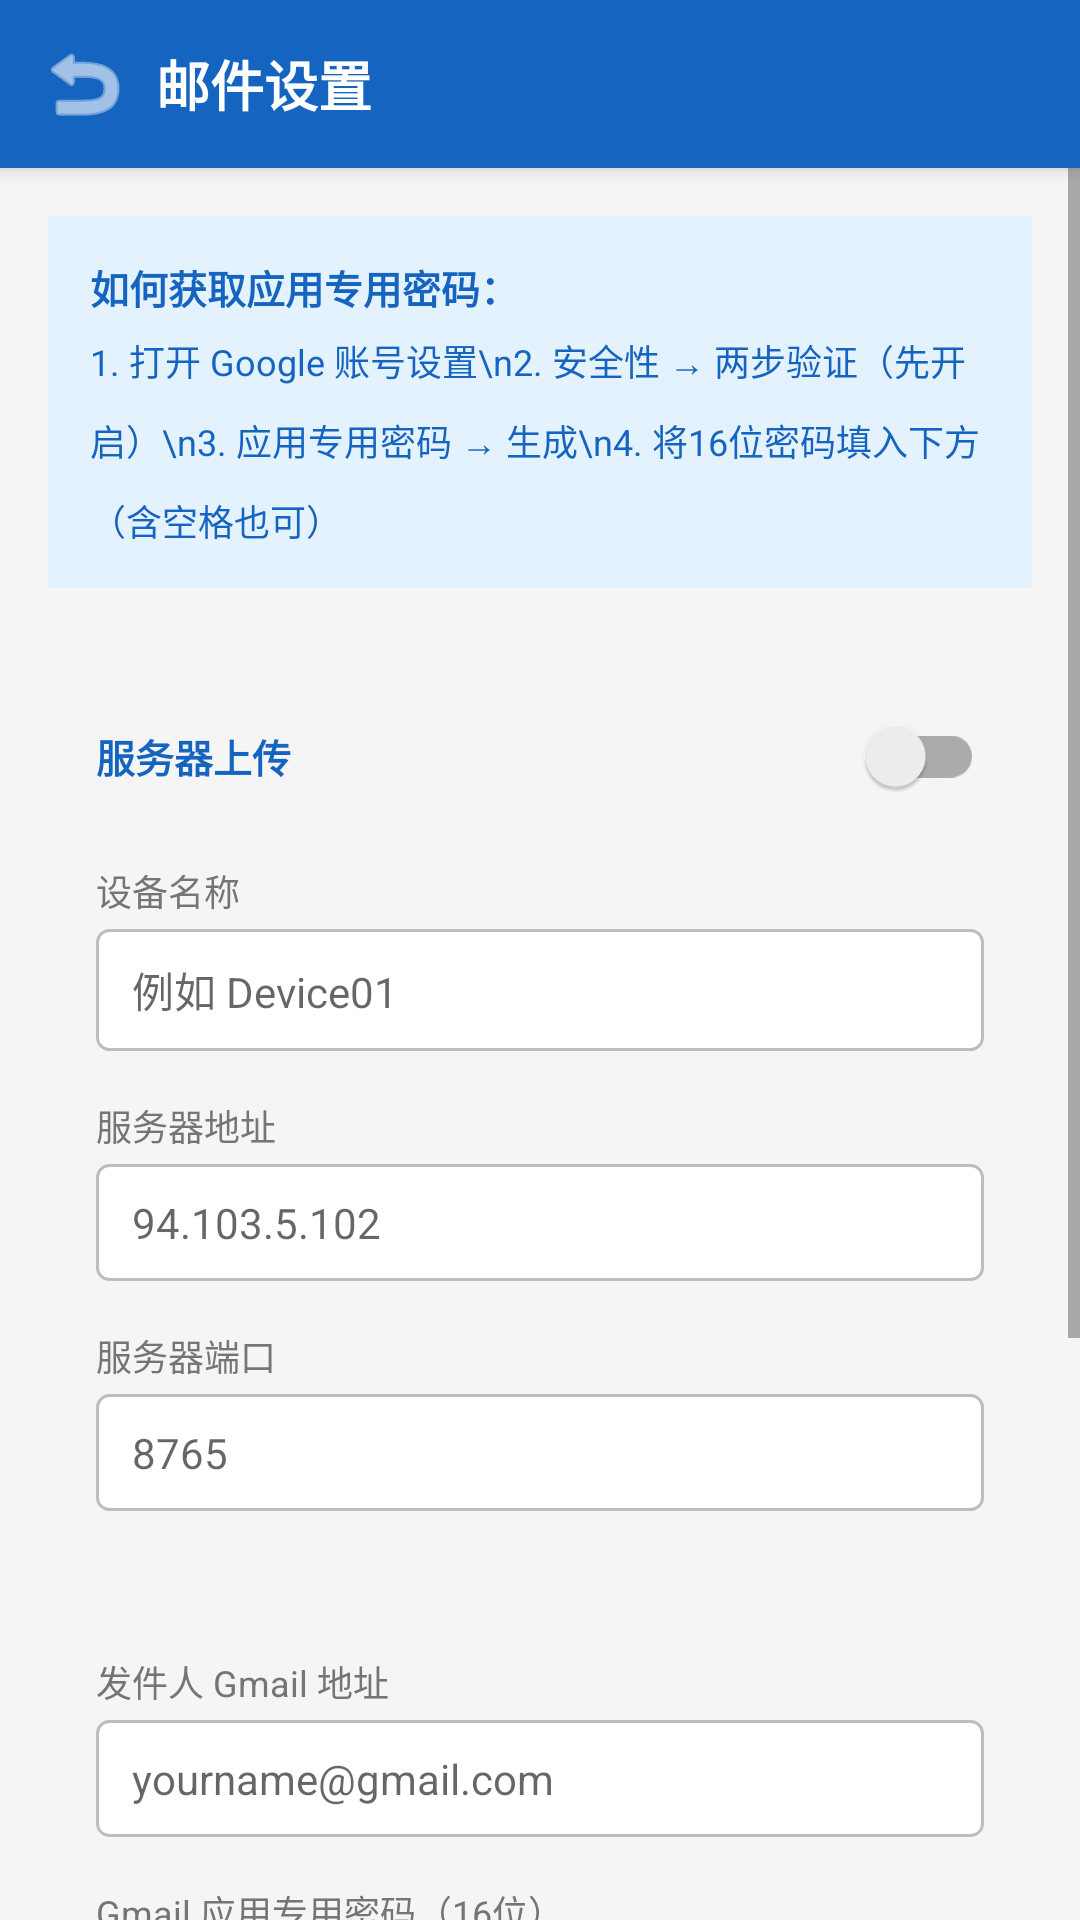

Named icons in this screenshot (1080px x 1920px) and their bounding boxes, (x1, y1, x2, y2):
返回: (51, 53, 120, 116)
